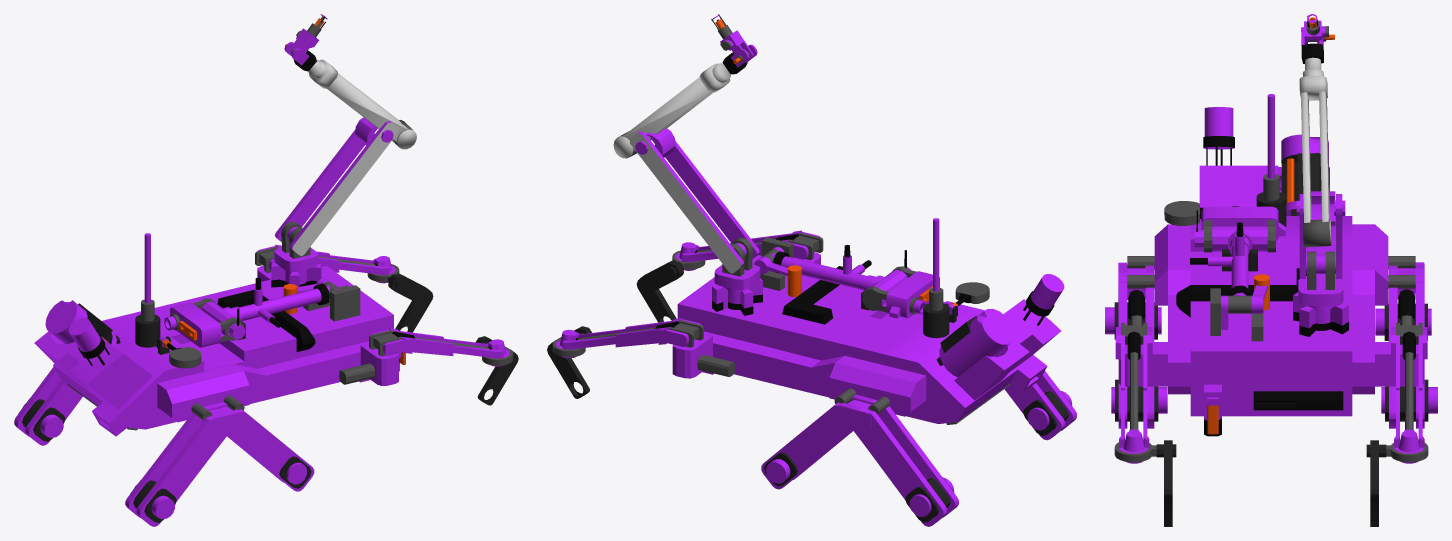
File: rover_con_patas.obj
The picture shows the model from 3 angles, left to right: view 1: azimuth 30°, elevation 25°; view 2: azimuth 150°, elevation 25°; view 3: azimuth 270°, elevation 25°; orthographic projection. The views are drawn at different scales.
Visible parts, largest first — view 1: rover_con_patas_SpacialRoverExploreralumWhite.003, rover_con_patas_SpacialRoverExploreralumGray.003, rover_con_patas_SpacialRoverExploreralumGrayDeep.003, rover_con_patas_SpacialRoverExploreralumArm.001, rover_con_patas_SpacialRoverExploreralumBlack.003, rover_con_patas_SpacialRoverExploreralumOrange.001; view 2: rover_con_patas_SpacialRoverExploreralumWhite.003, rover_con_patas_SpacialRoverExploreralumGray.003, rover_con_patas_SpacialRoverExploreralumGrayDeep.003, rover_con_patas_SpacialRoverExploreralumArm.001, rover_con_patas_SpacialRoverExploreralumBlack.003, rover_con_patas_SpacialRoverExploreralumOrange.001; view 3: rover_con_patas_SpacialRoverExploreralumWhite.003, rover_con_patas_SpacialRoverExploreralumGray.003, rover_con_patas_SpacialRoverExploreralumBlack.003, rover_con_patas_SpacialRoverExploreralumGrayDeep.003, rover_con_patas_SpacialRoverExploreralumArm.001, rover_con_patas_SpacialRoverExploreralumOrange.001.
Part boxes in pixels (box(x1,y1,x2,y2)): rover_con_patas_SpacialRoverExploreralumWhite.003: box(14, 14, 509, 526); rover_con_patas_SpacialRoverExploreralumGray.003: box(67, 15, 513, 430); rover_con_patas_SpacialRoverExploreralumGrayDeep.003: box(18, 273, 518, 522); rover_con_patas_SpacialRoverExploreralumArm.001: box(292, 59, 416, 255); rover_con_patas_SpacialRoverExploreralumBlack.003: box(78, 16, 491, 371); rover_con_patas_SpacialRoverExploreralumOrange.001: box(101, 18, 509, 364); rover_con_patas_SpacialRoverExploreralumWhite.003: box(556, 15, 1076, 526); rover_con_patas_SpacialRoverExploreralumGray.003: box(552, 19, 1010, 424); rover_con_patas_SpacialRoverExploreralumGrayDeep.003: box(547, 260, 1071, 522); rover_con_patas_SpacialRoverExploreralumArm.001: box(613, 63, 741, 273); rover_con_patas_SpacialRoverExploreralumBlack.003: box(575, 14, 1054, 340); rover_con_patas_SpacialRoverExploreralumOrange.001: box(715, 19, 957, 306); rover_con_patas_SpacialRoverExploreralumWhite.003: box(1105, 14, 1437, 463); rover_con_patas_SpacialRoverExploreralumGray.003: box(1114, 19, 1428, 462); rover_con_patas_SpacialRoverExploreralumBlack.003: box(1127, 15, 1415, 436); rover_con_patas_SpacialRoverExploreralumGrayDeep.003: box(1114, 153, 1428, 526); rover_con_patas_SpacialRoverExploreralumArm.001: box(1299, 57, 1331, 245); rover_con_patas_SpacialRoverExploreralumOrange.001: box(1119, 17, 1334, 451).
Bounding box in the file's own units: 13.19 × 11.67 × 7.4.
